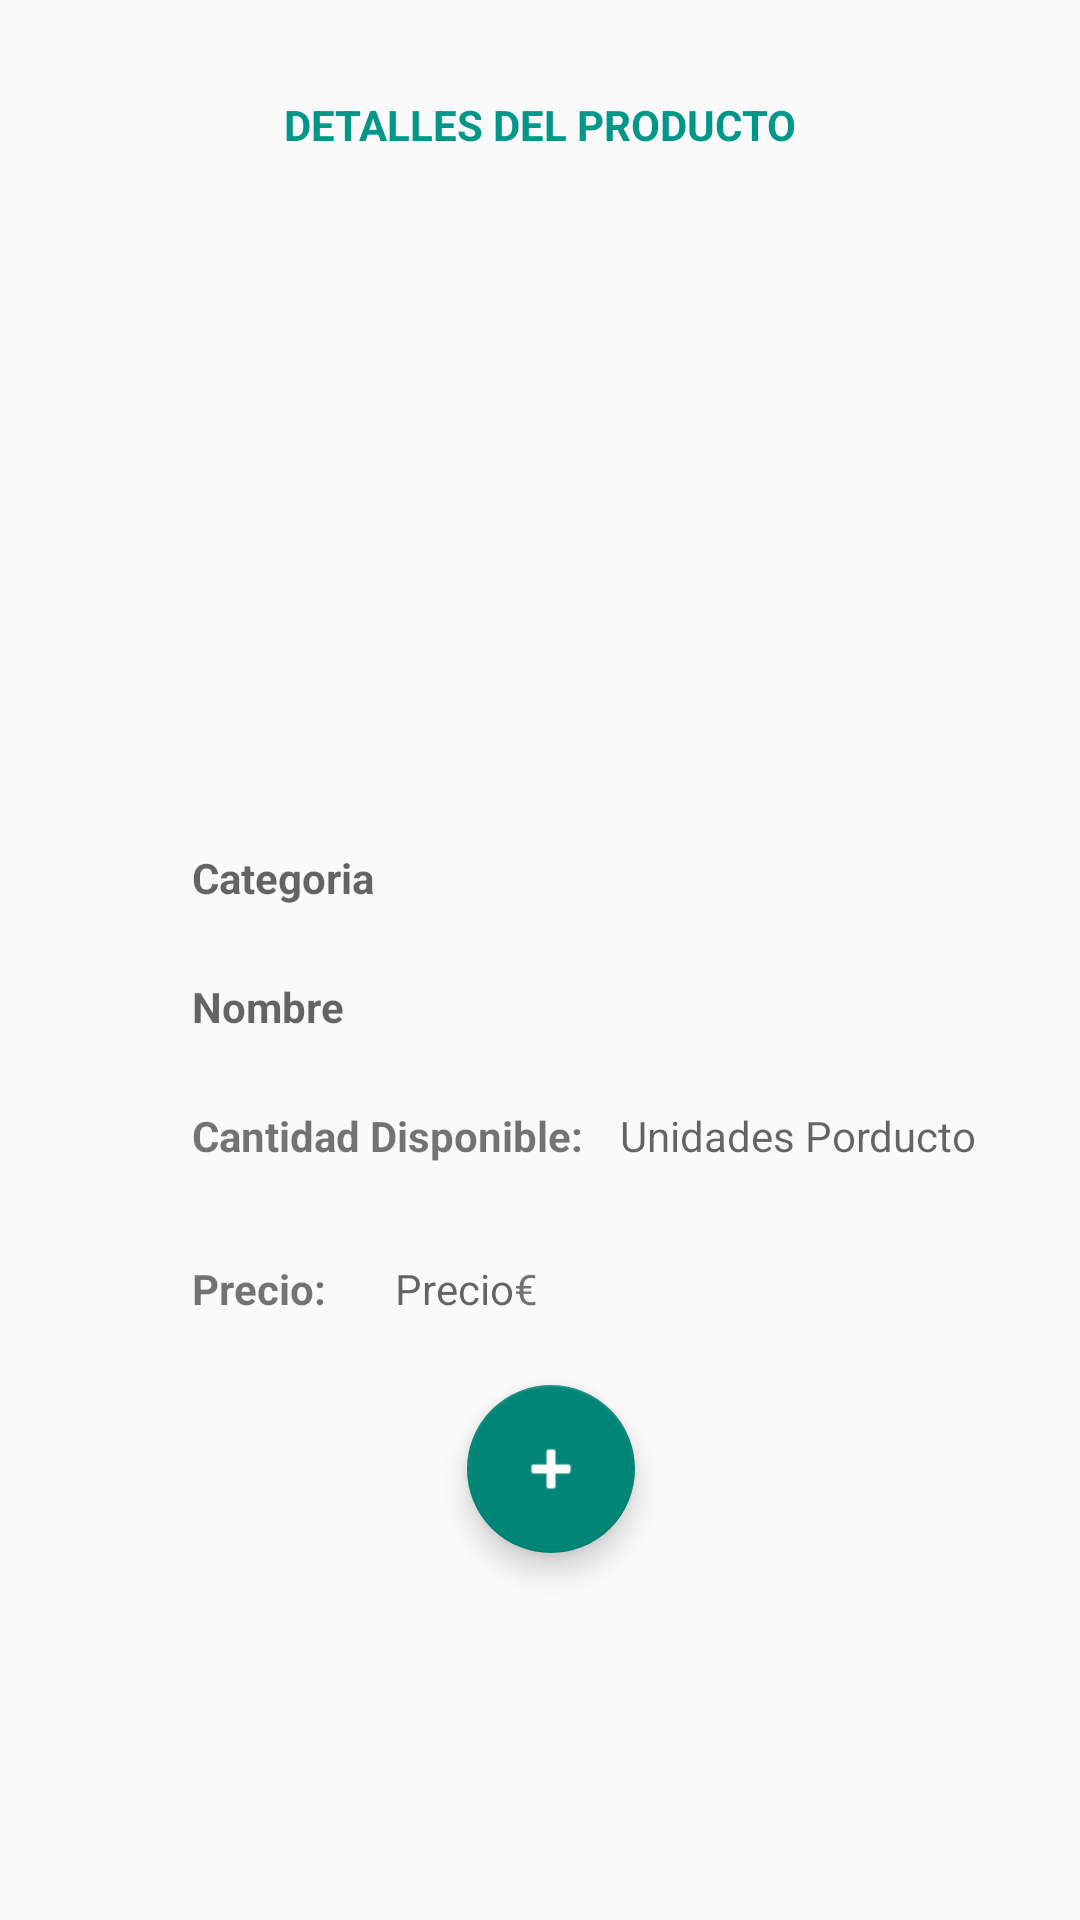

Named icons in this screenshot (1080*1920) and their bounding boxes, Rect(x1, y1, x2, y2):
add: Rect(467, 1385, 635, 1553)
